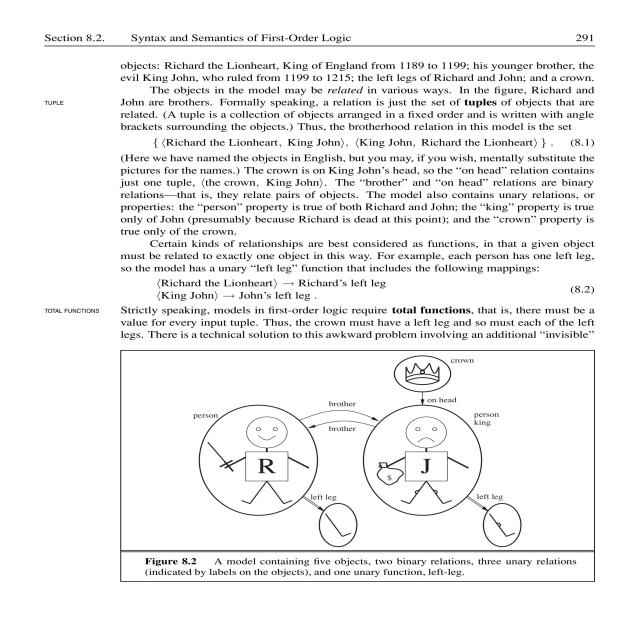diagram: (84, 348, 640, 640)
